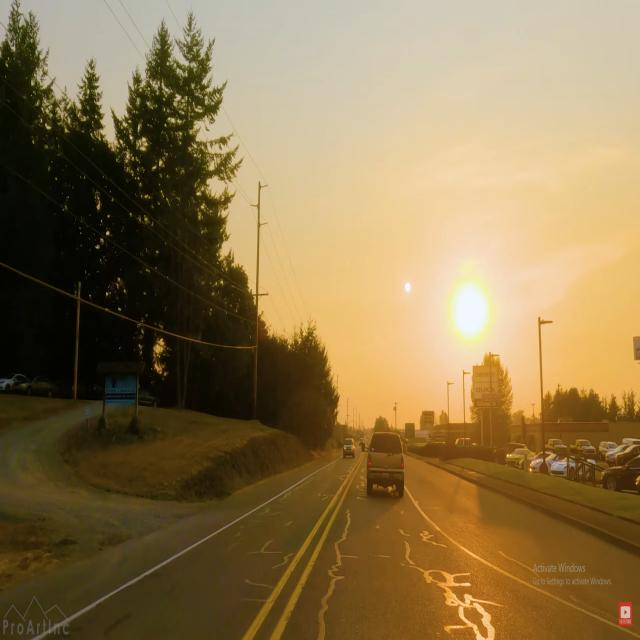sun: (444, 262, 498, 352)
